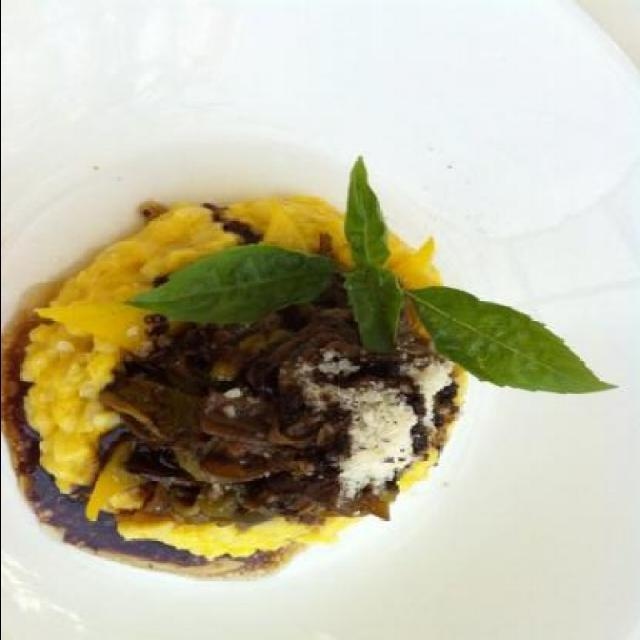Risotto: (13, 178, 495, 598)
